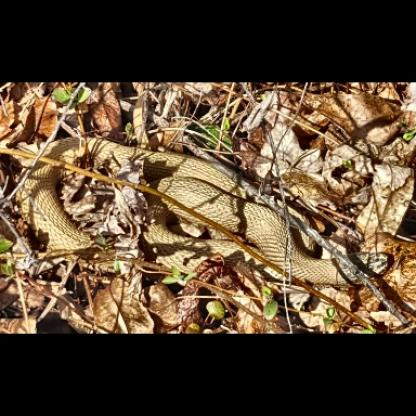Snake: (7, 112, 409, 308)
